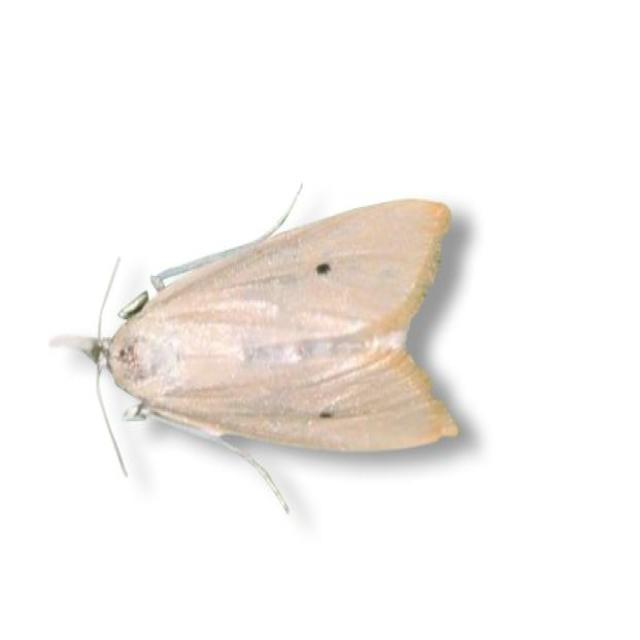rice stem borer -penggerek batang padi-: (47, 180, 461, 515)
